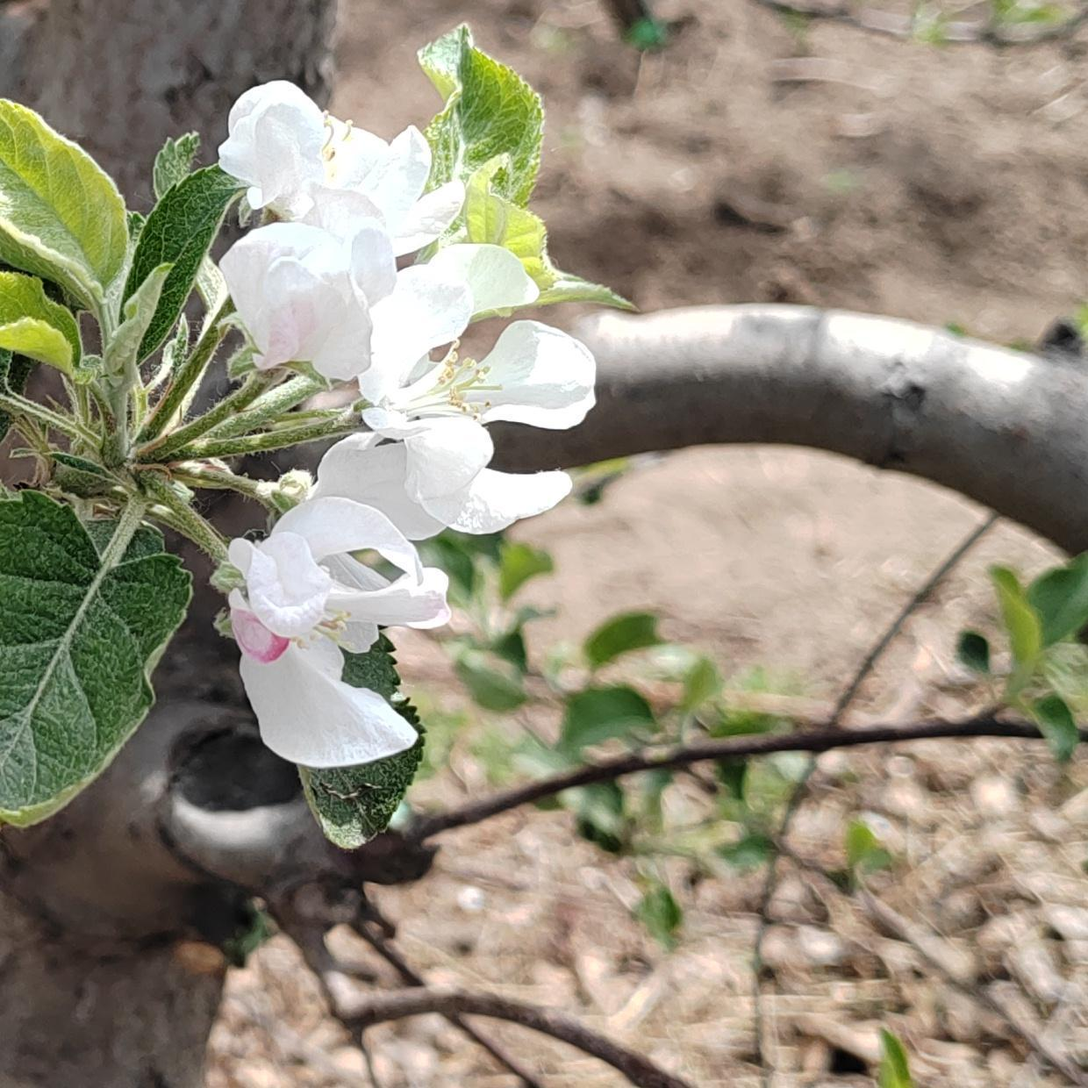apple_flower: (222, 81, 597, 534), (227, 493, 451, 767), (220, 78, 466, 253), (317, 413, 573, 539), (223, 219, 399, 378), (442, 318, 599, 427)
